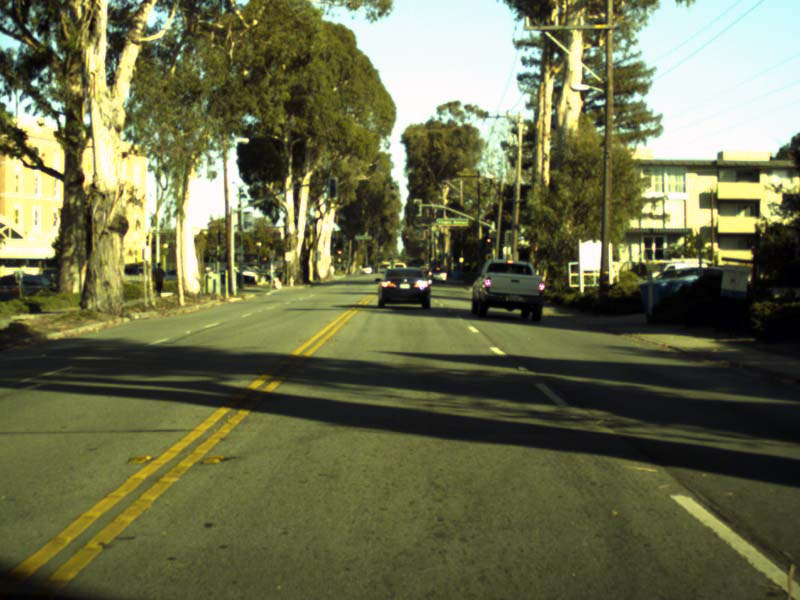Red: (485, 237, 491, 249), (414, 201, 419, 213), (404, 234, 409, 243)
